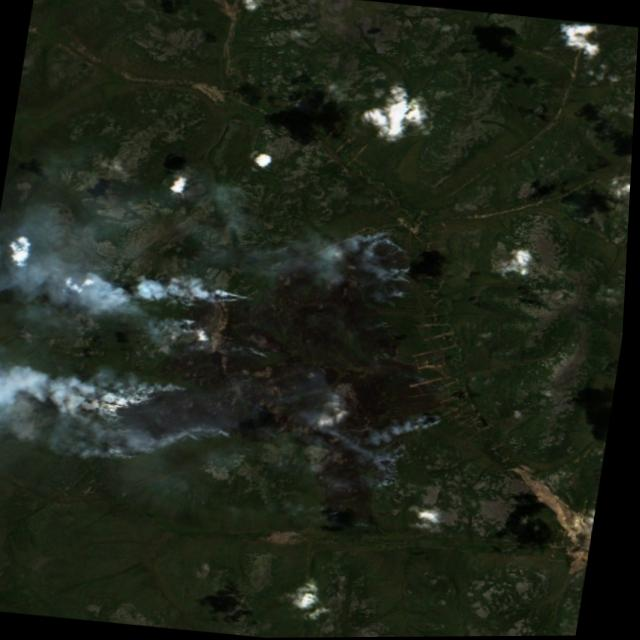fire: (92, 198, 455, 532)
